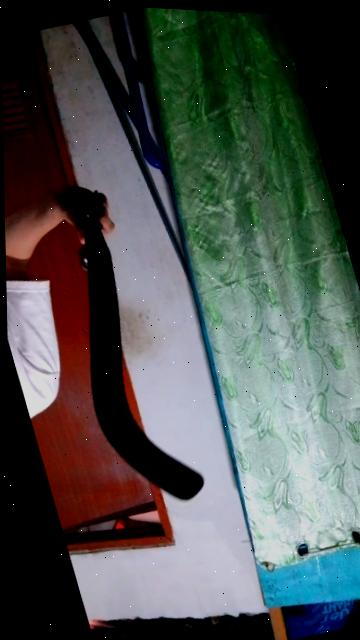long knife: (18, 160, 228, 530)
